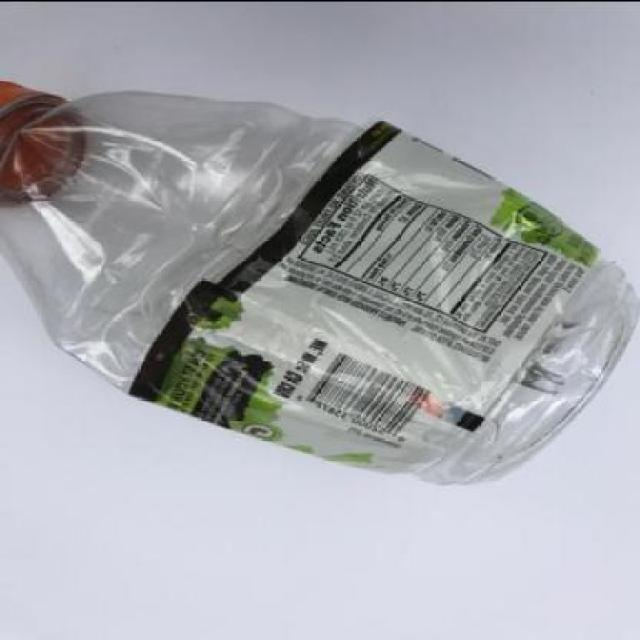PLASTIC: (1, 80, 638, 486), (128, 118, 600, 474), (1, 79, 90, 206)
